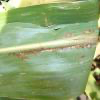Corn rust leaf: (3, 14, 99, 95)
